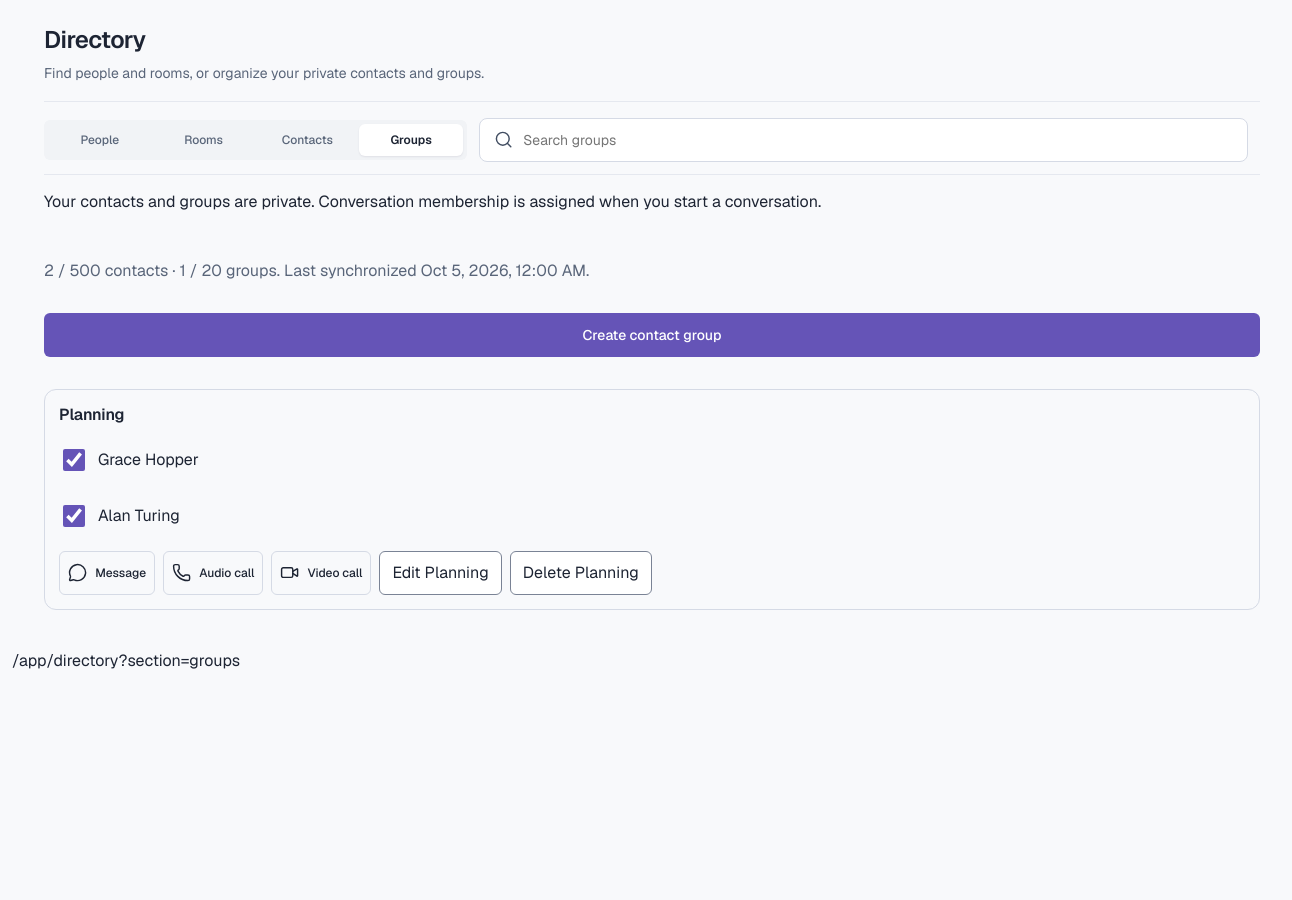
Test: private contact communication › requires explicit review after the saved selection changes and creates no alternate group
Click the button with aria-label "Message selected contacts in Planning": (107, 573) [59,551,155,595]
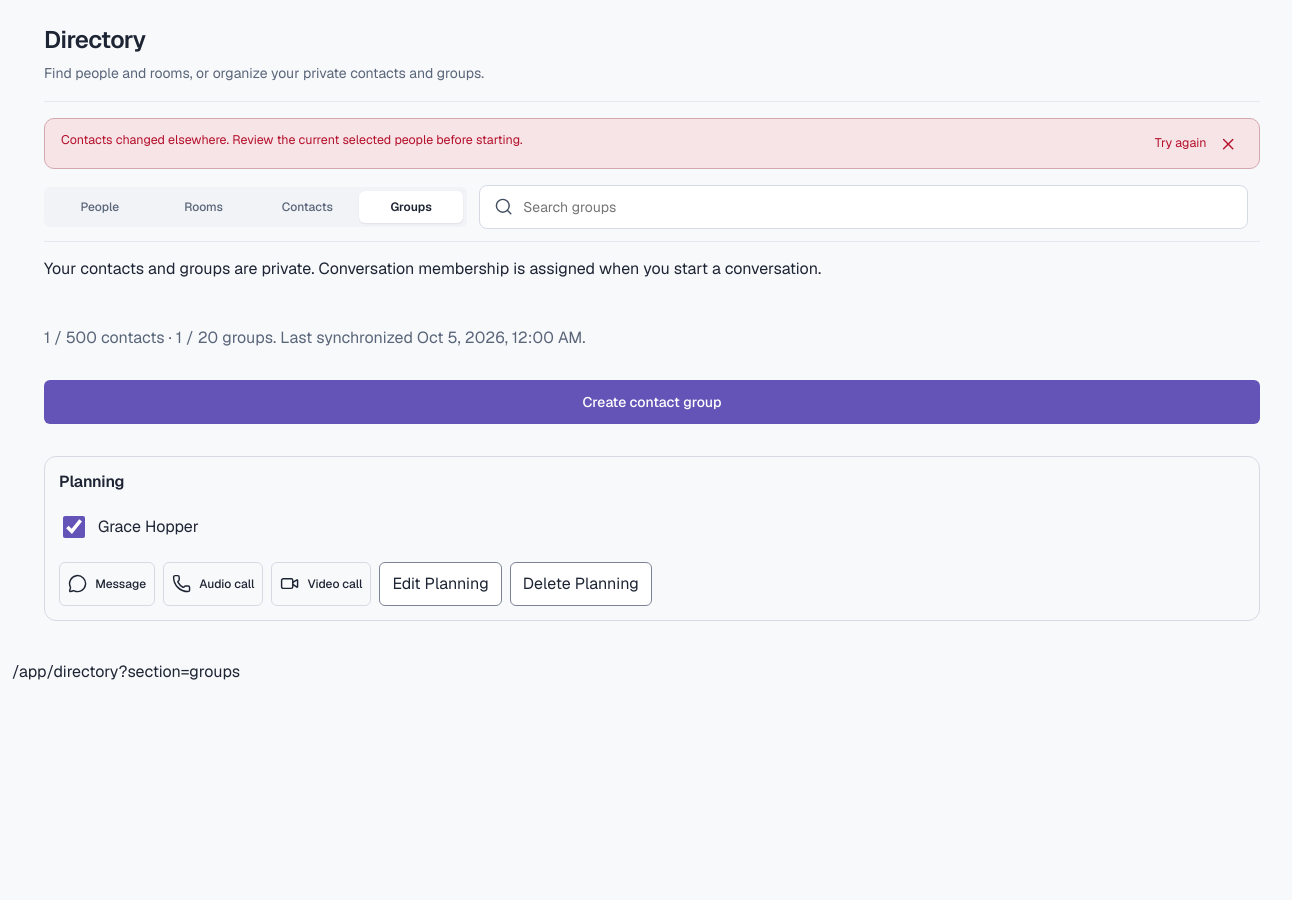
Expected: the text "Contacts changed elsewhere. Review the current selected people before starting." is shown, [61,131,523,156]
Expected: the text "Alan Turing" is gone
